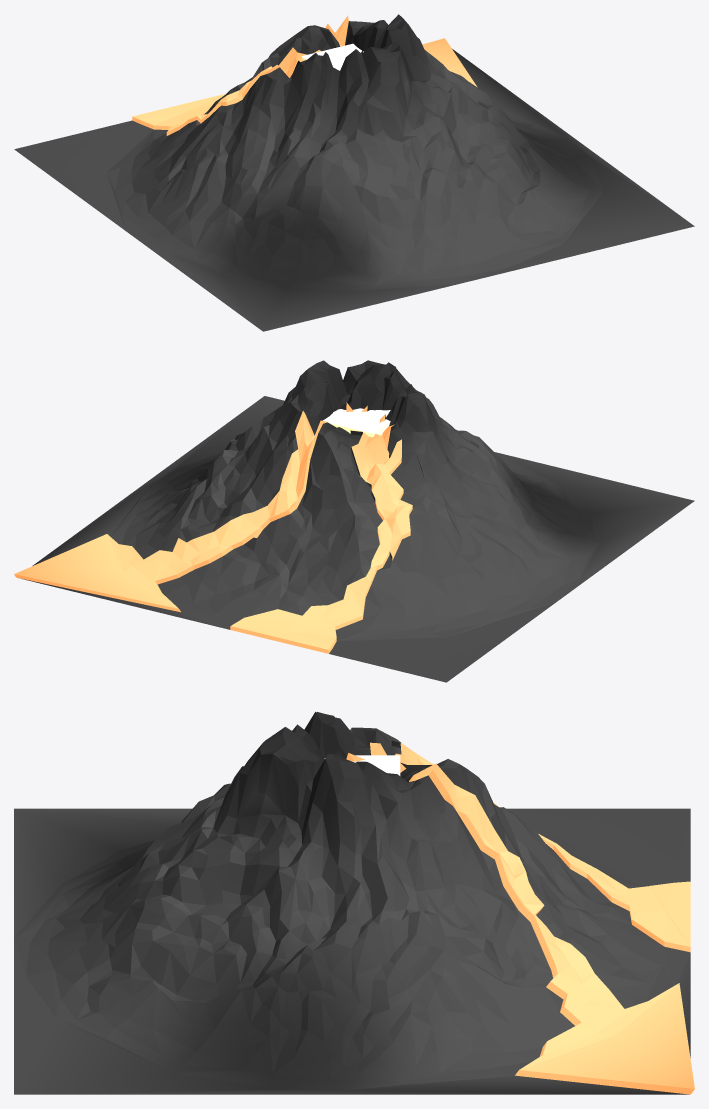
The model's file is Volcano.glb.
3 views of the same model, one above another, from view 1: azimuth 30°, elevation 25°; view 2: azimuth 150°, elevation 25°; view 3: azimuth 270°, elevation 25° (orthographic). The views are drawn at different scales.
Parts seen in each view (by area): view 1: Volcano, Lava; view 2: Volcano, Lava; view 3: Volcano, Lava.
Boxes of the visible parts, x1,y1,x2,y2 form: Volcano: (14,14,694,331); Lava: (301,43,363,70); Volcano: (14,360,694,682); Lava: (323,408,390,437); Volcano: (14,711,694,1094); Lava: (324,755,400,775).
Size of what is drawn, in the model's own units: 2 by 0.7196 by 2.01.
